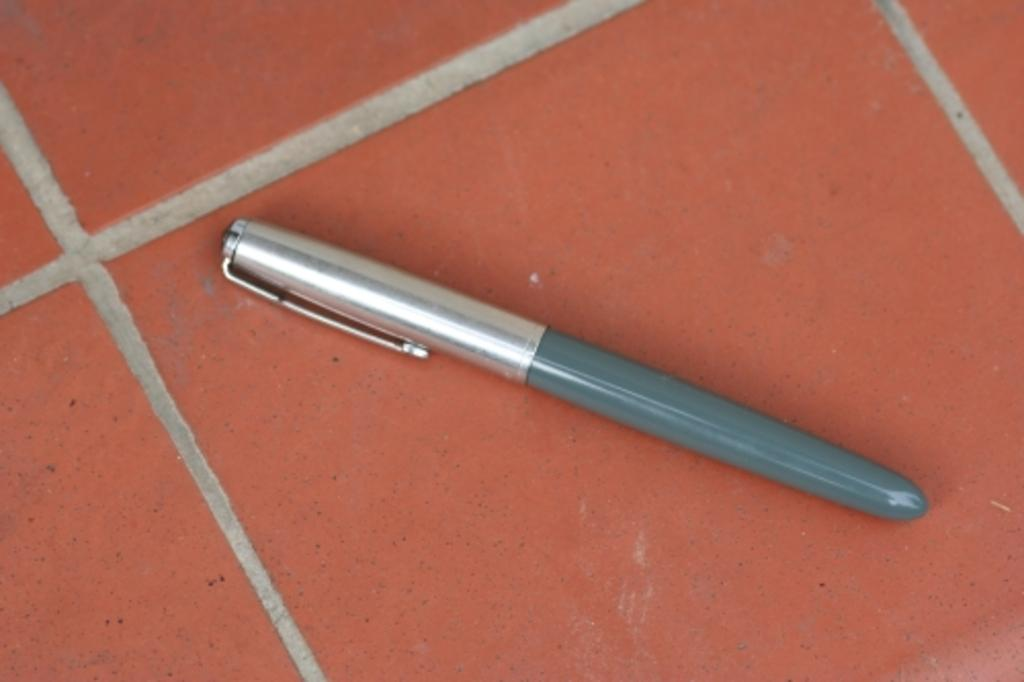pen: (209, 219, 926, 524)
